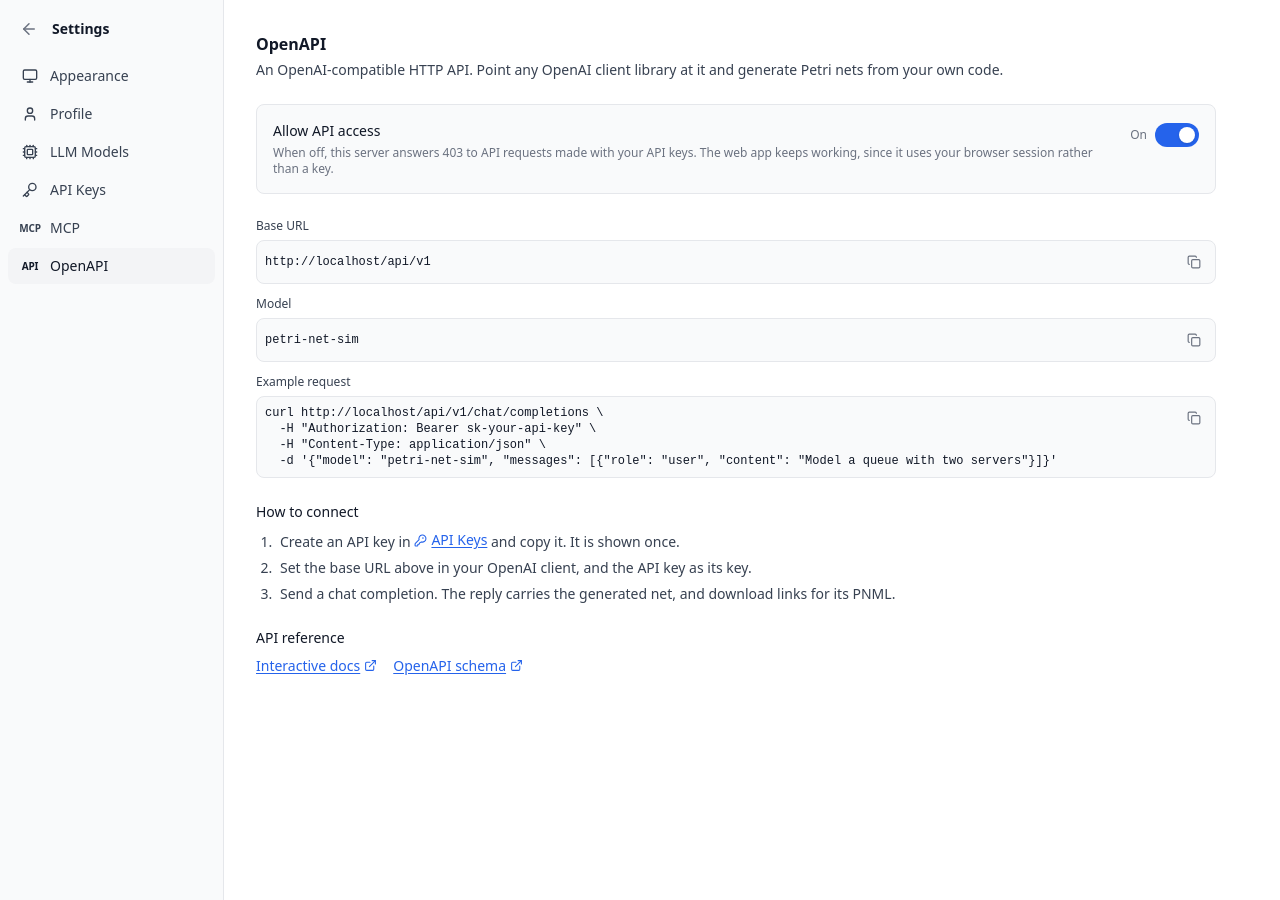
Test case: the switch › reverts and reports when the write fails
Click the switch named "allow api access" at (1177, 135), box x1=1155 y1=123 x2=1199 y2=147
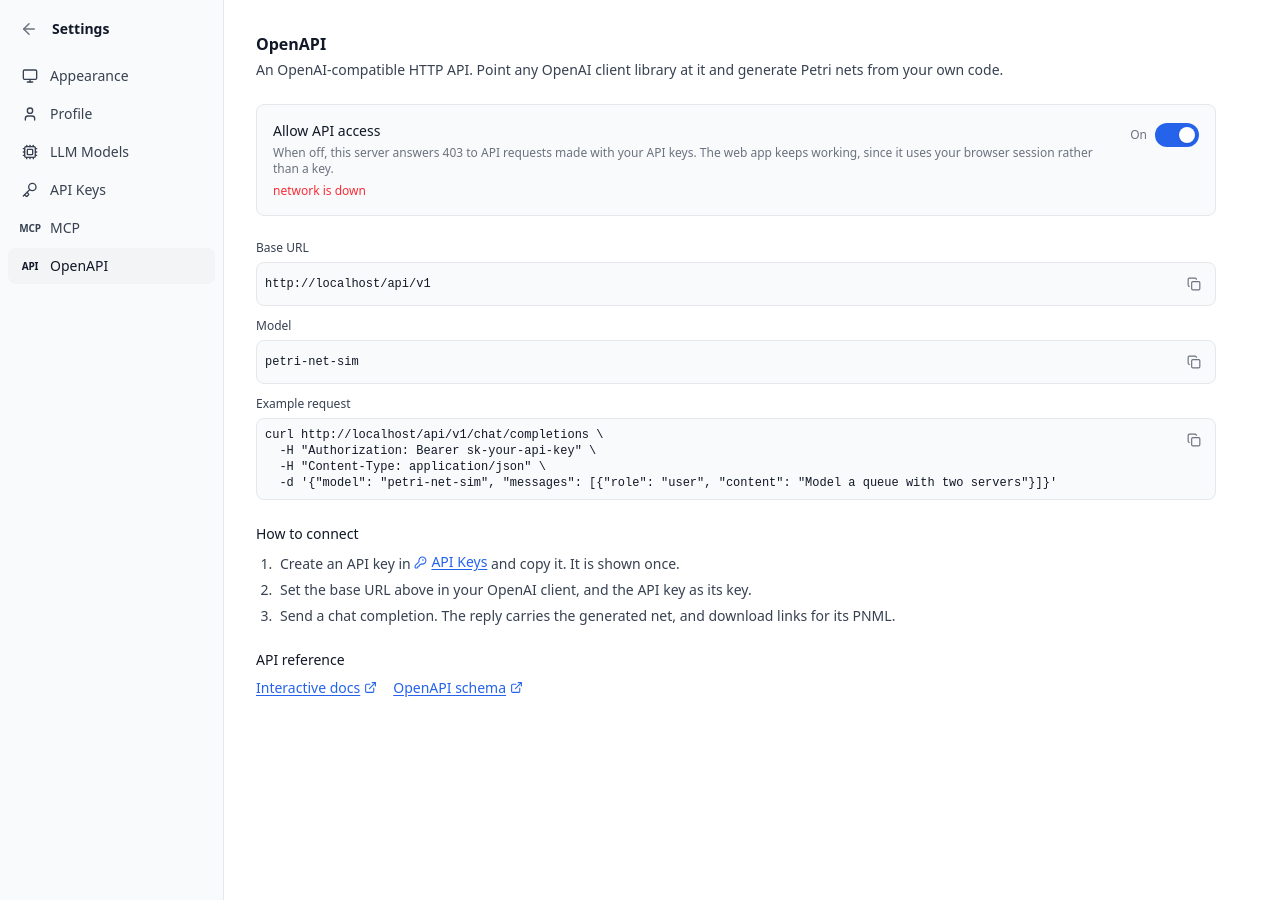
Result: the message reads "network is down" at x1=273 y1=182 x2=366 y2=199
